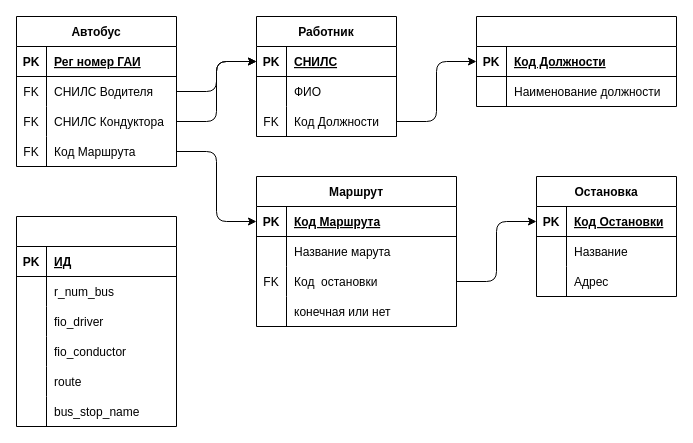
Some shapes in this 693 by 443 pixel diagram are drawn without their labels. The box of each missing label's shape, as (x1, y1, x2, y2) in pixels:
output: (16, 216, 176, 426)
Должность: (476, 16, 676, 106)
